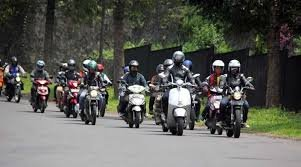motor: (162, 77, 193, 134), (221, 85, 247, 136), (123, 84, 149, 128), (79, 83, 102, 124), (32, 77, 51, 113), (4, 71, 24, 102)
